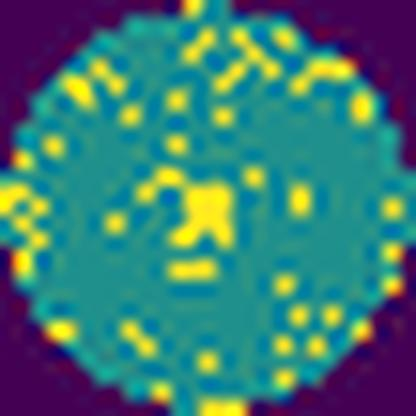Center: (162, 164, 235, 252)
